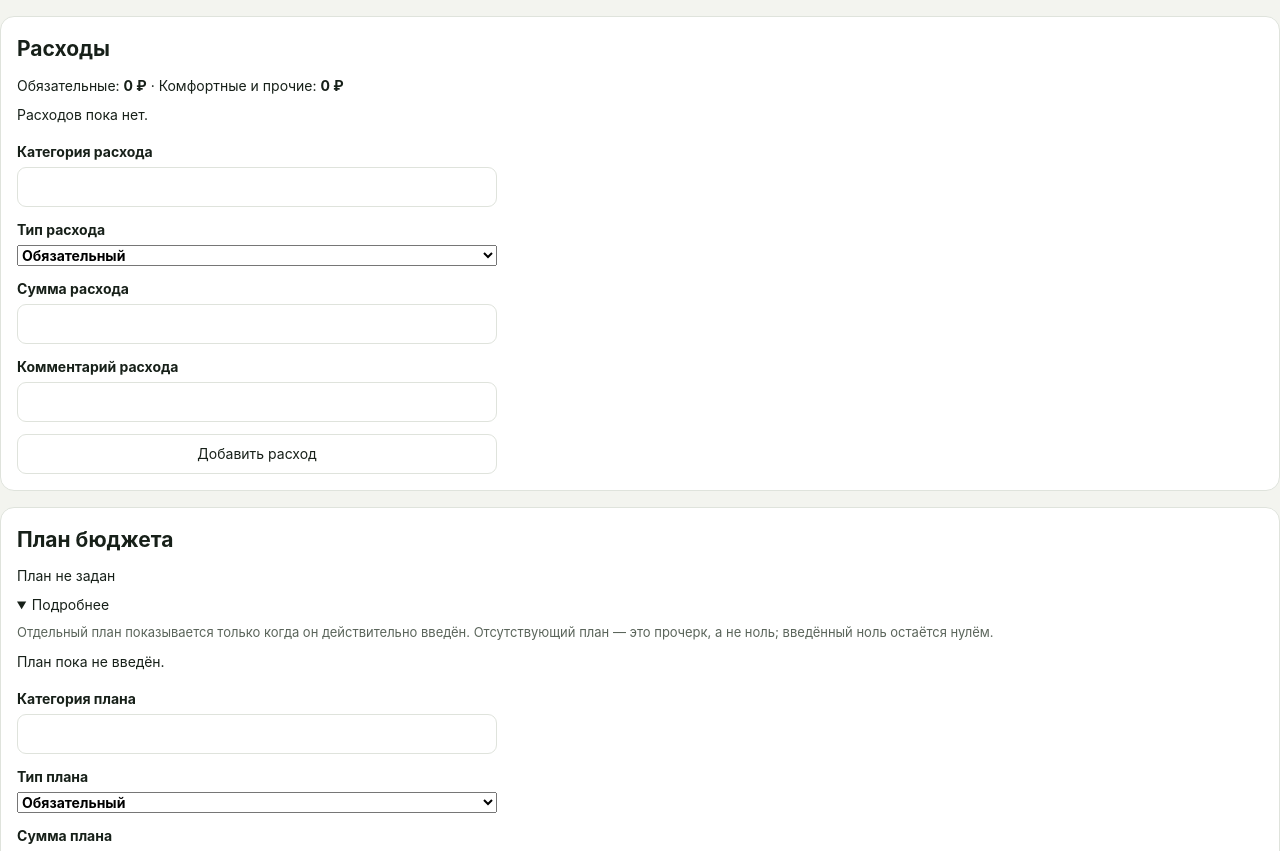
UiV2MonthBudgetSection mutations and guards › keeps the draft visible when save fails
The image size is (1280, 851).
Expected: the element named "Расходы месяца" is shown, [0,16,1279,490]
Type "Еда" into the field labelled "Категория расхода" at coordinates (257, 186), box [17,166,497,206]
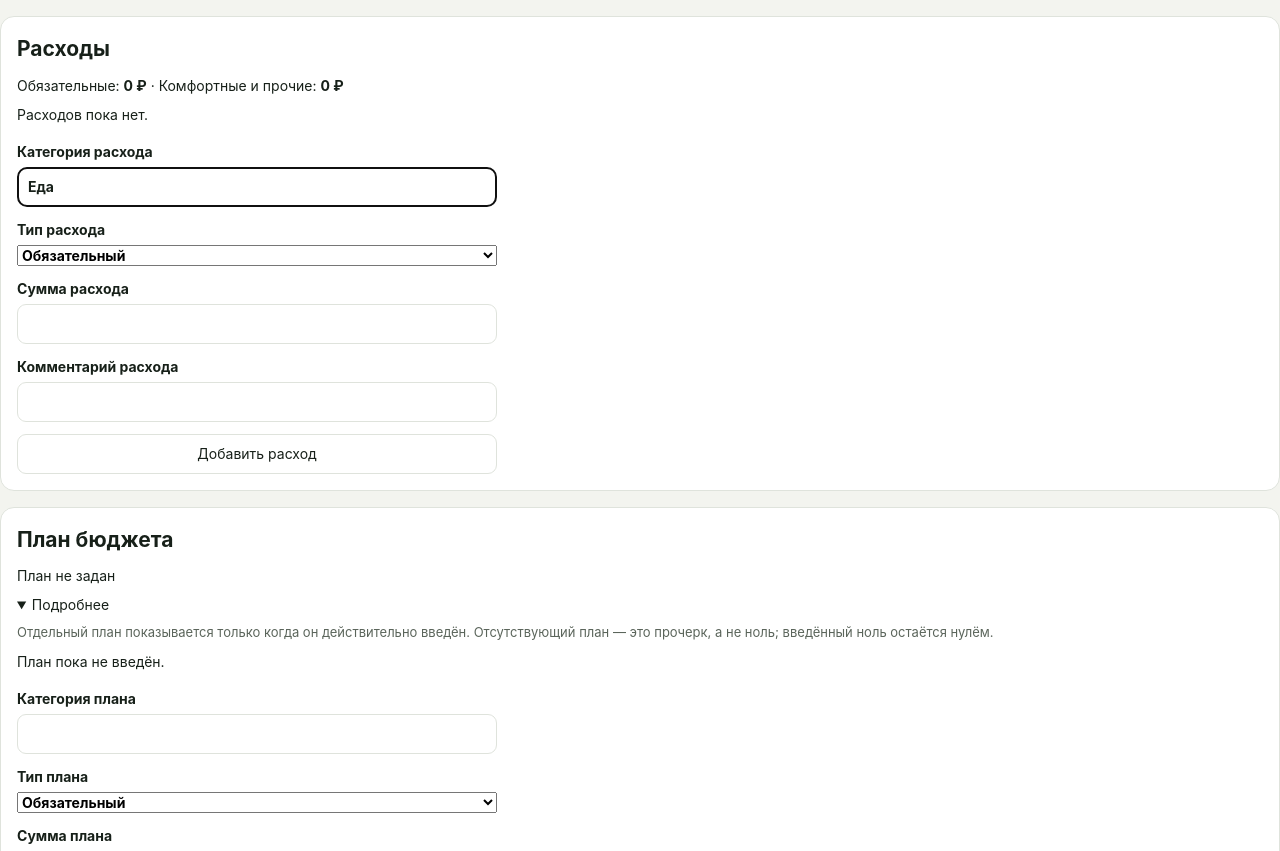
Type "50000" into the field labelled "Сумма расхода" at coordinates (257, 324), box [17,304,497,344]
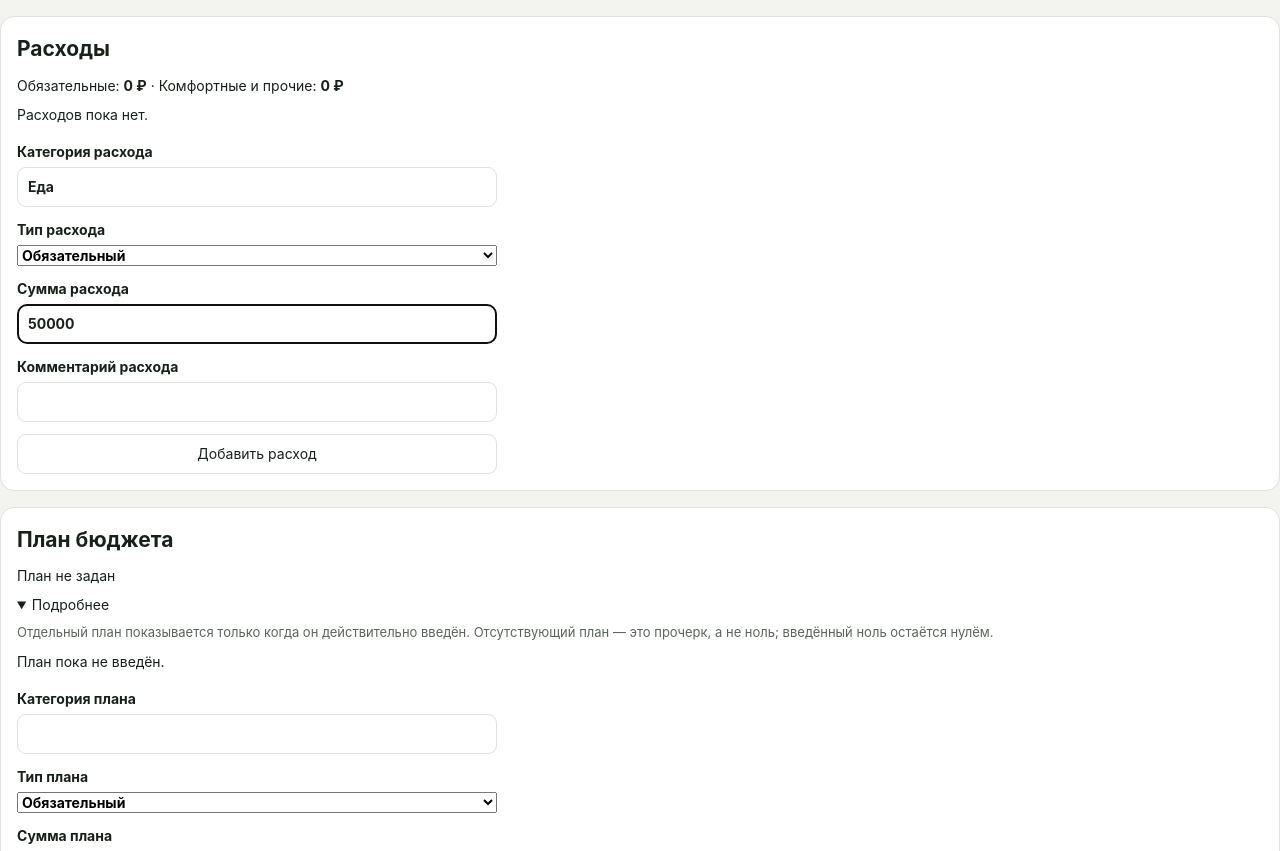
Click the button "Добавить расход" at coordinates (257, 454), box [17,434,497,474]
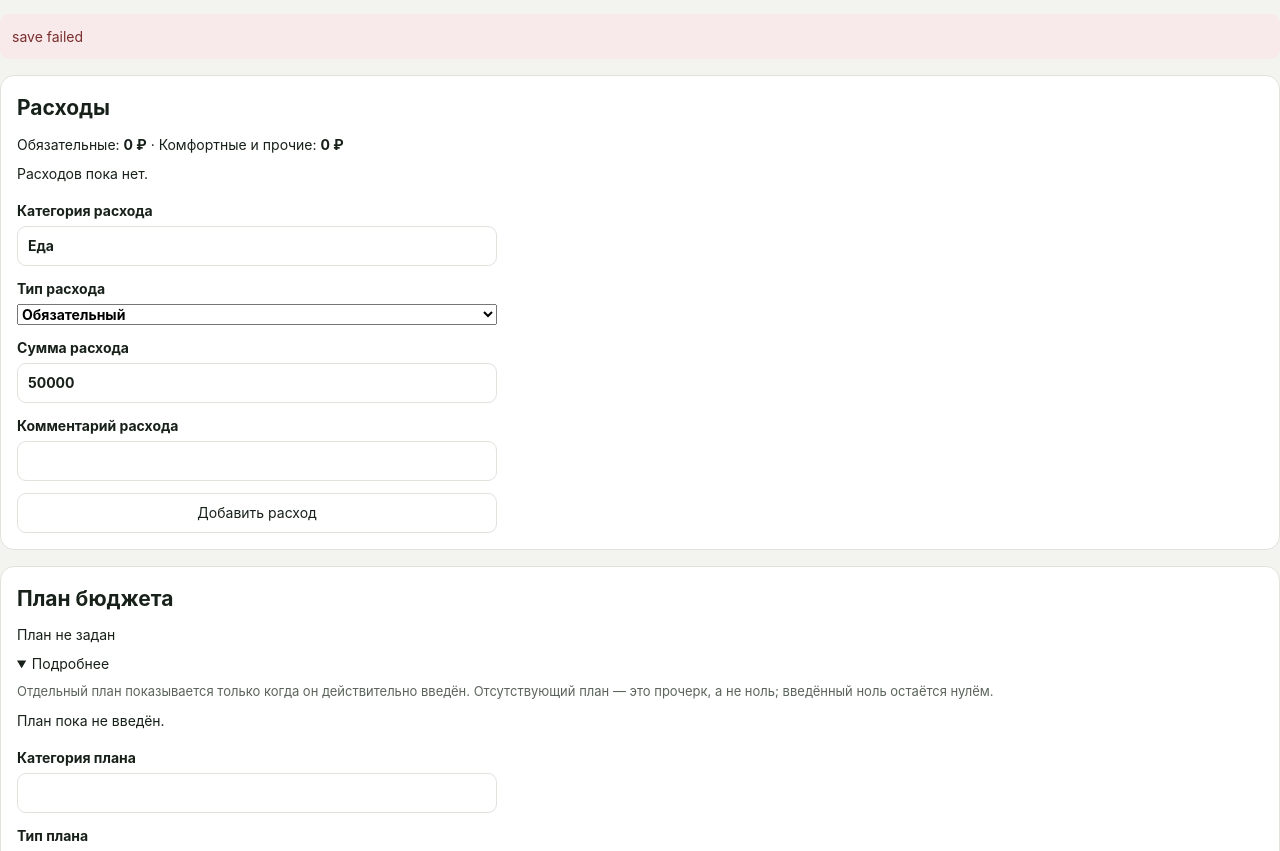
Result: the text "save failed" is shown at [0,14,1279,59]
